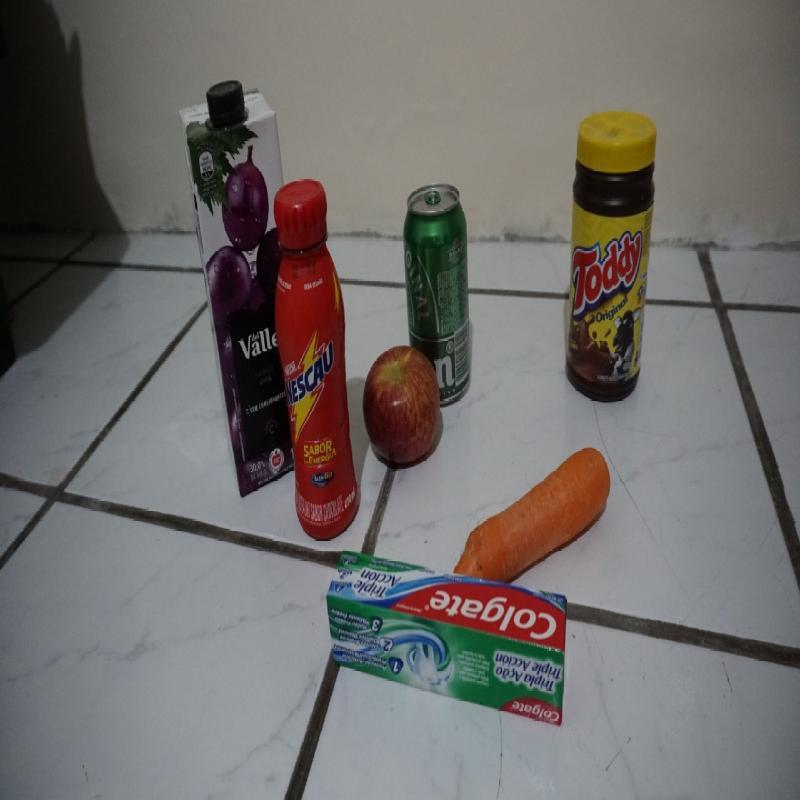Apple: (362, 344, 442, 466)
Beer can: (402, 183, 469, 403)
Carrot: (452, 449, 612, 581)
Chocolate Milk: (272, 179, 360, 539)
Chocolate Powder: (567, 109, 656, 403)
Toothpaste: (327, 548, 568, 727)
